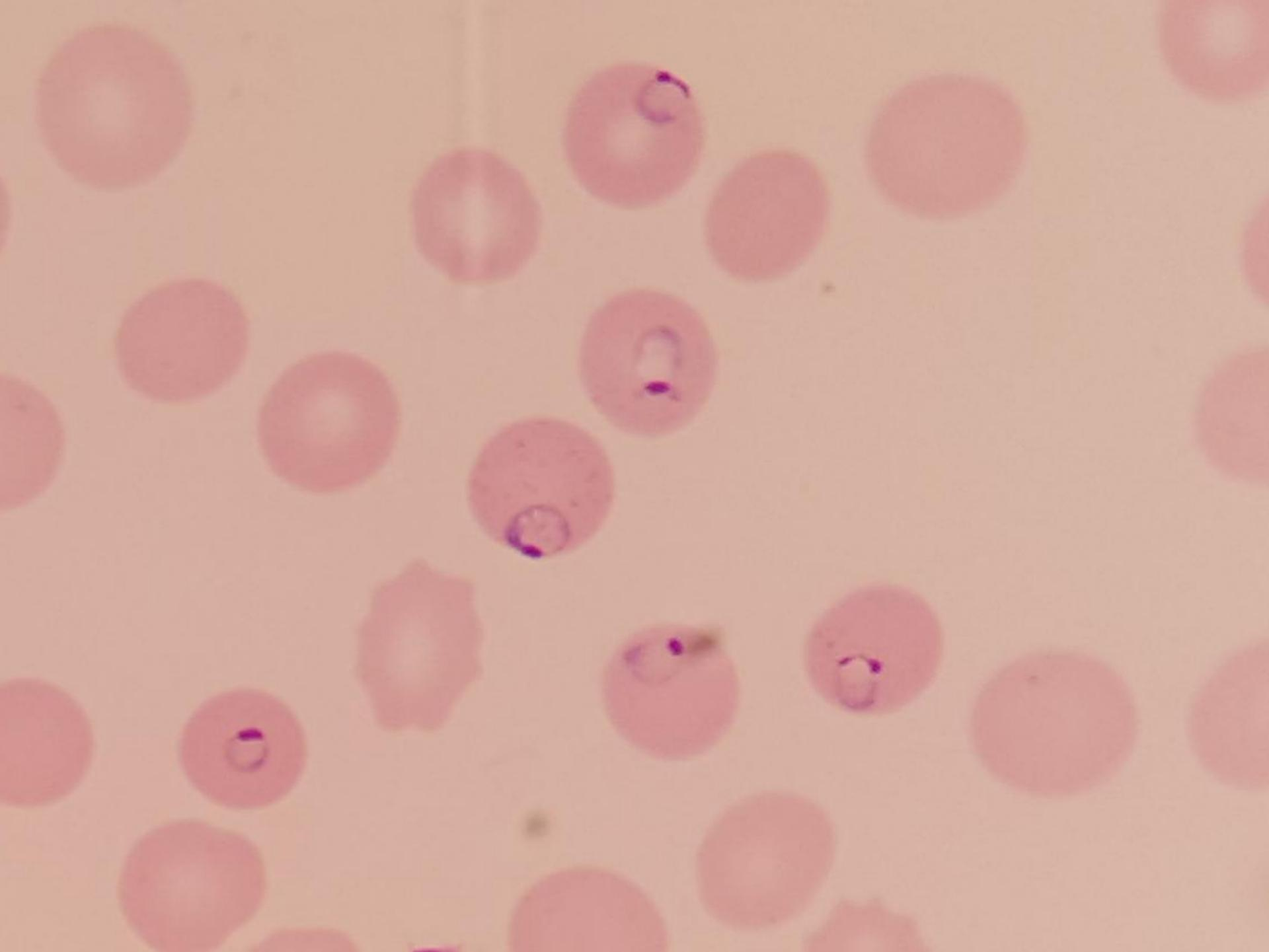Infected: (563, 60, 701, 207), (471, 417, 613, 559), (600, 615, 740, 756), (582, 293, 721, 434), (806, 575, 946, 714), (177, 687, 309, 812)
Uninfected: (35, 22, 192, 192), (970, 644, 1141, 799), (867, 73, 1024, 221), (357, 562, 485, 737), (114, 823, 272, 949), (261, 352, 397, 492), (701, 791, 837, 931), (405, 149, 544, 285), (706, 146, 831, 281), (114, 279, 249, 401), (502, 862, 676, 952), (0, 679, 93, 808)
